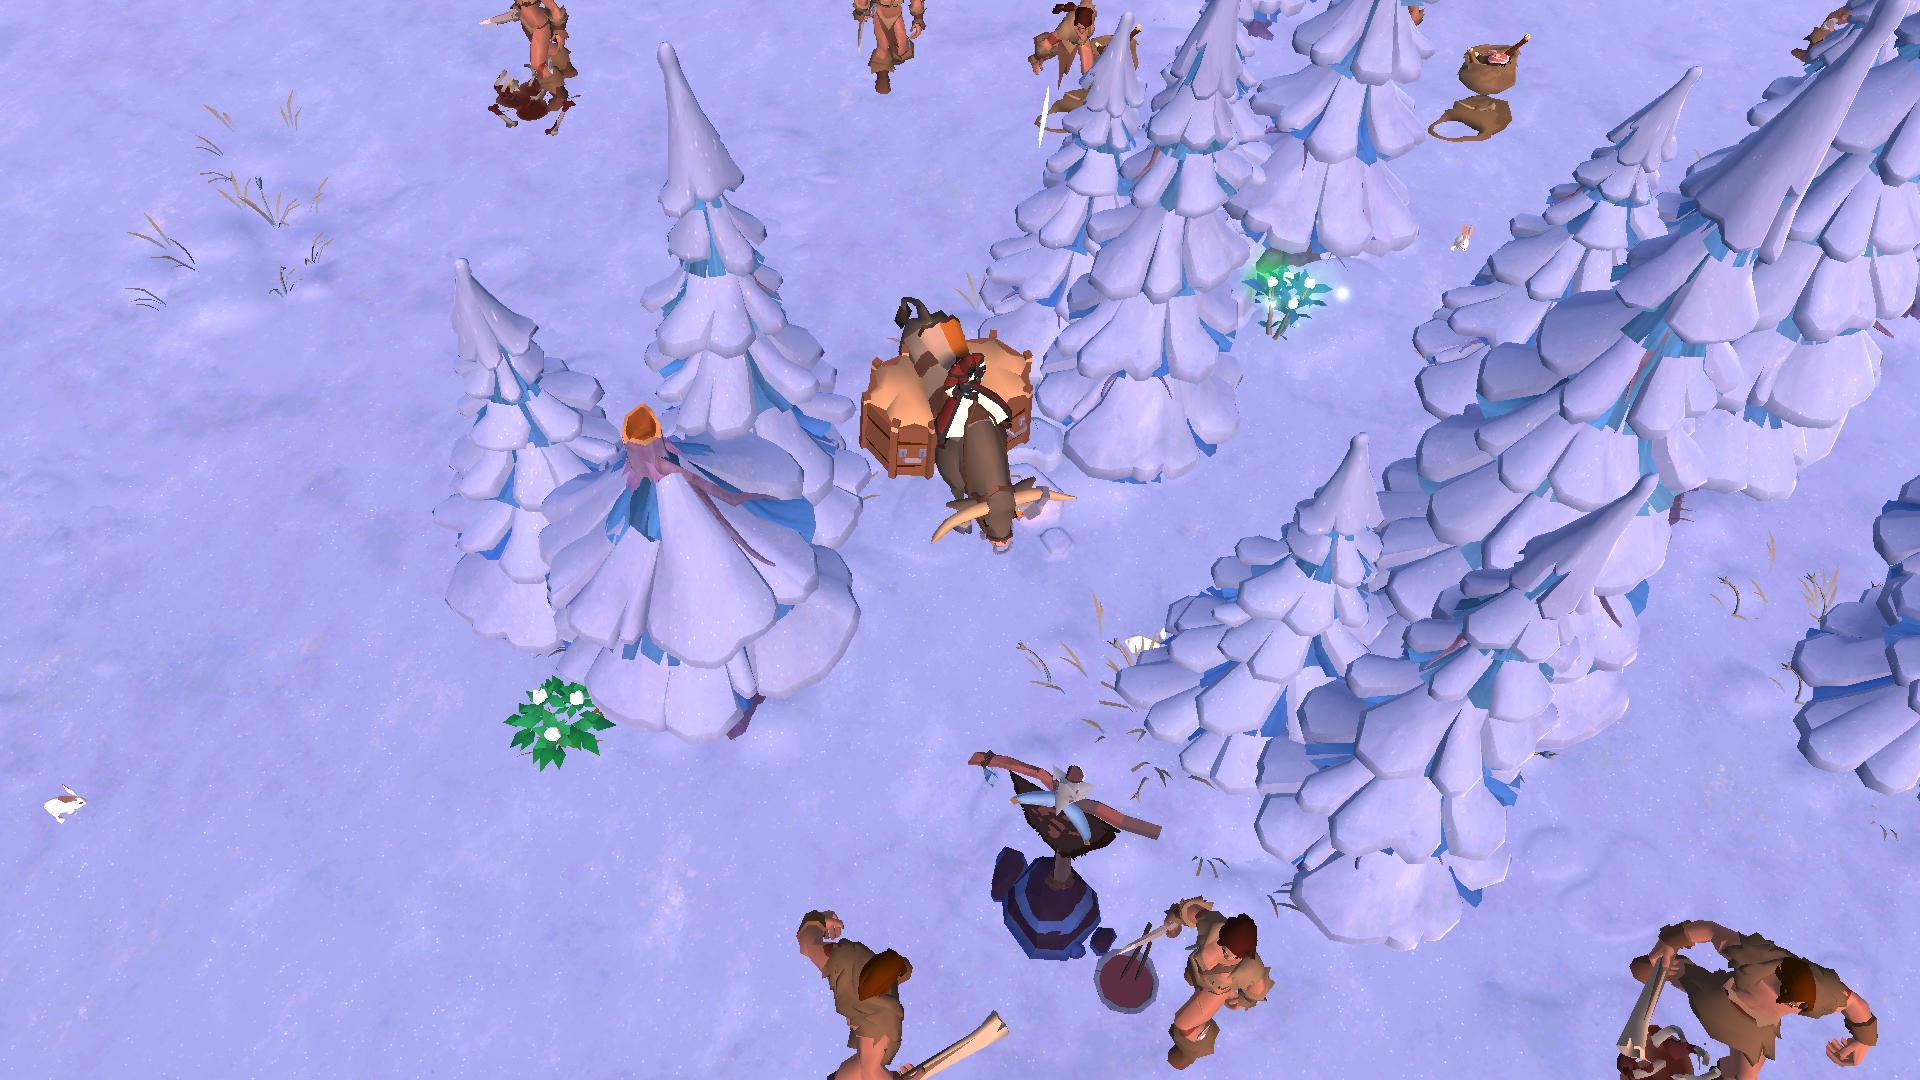enemy_factionKeeper: (1605, 923, 1873, 1080), (787, 903, 1013, 1080), (1133, 889, 1274, 1080), (1025, 0, 1117, 92), (853, 0, 926, 111), (502, 0, 587, 91)
fiber_t4: (1241, 265, 1336, 345)
ore_t3: (504, 678, 609, 782)
